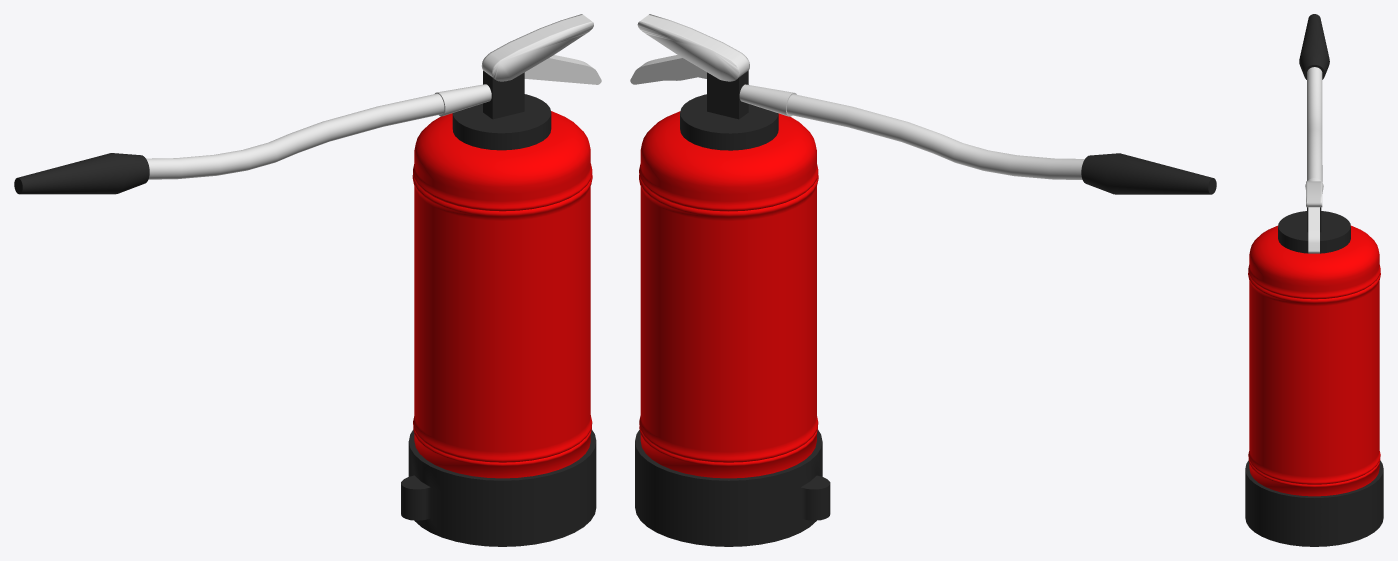
File: Feuerlöscher.fbx
The picture shows the model from 3 angles, left to right: view 1: azimuth 30°, elevation 25°; view 2: azimuth 150°, elevation 25°; view 3: azimuth 270°, elevation 25°; orthographic projection. The views are drawn at different scales.
Visible parts, largest first — view 1: Kapsel, Sweep-NURBS, Zylinder, Scheibe, Deckfläche 1.1, Würfel.1, Deckfläche 1.3, Griff oben, Loft-NURBS; view 2: Kapsel, Sweep-NURBS, Zylinder, Scheibe, Deckfläche 1.1, Würfel.1, Deckfläche 2.3, Griff oben, Loft-NURBS; view 3: Kapsel, Scheibe, Sweep-NURBS, Zylinder, Griff unten, Griff oben.
Boxes of the visible parts, x1=… form: Kapsel: x1=401, y1=111, x2=596, y2=546; Sweep-NURBS: x1=146, y1=93, x2=444, y2=179; Zylinder: x1=14, y1=153, x2=149, y2=194; Scheibe: x1=452, y1=94, x2=551, y2=150; Deckfläche 1.1: x1=481, y1=14, x2=593, y2=81; Würfel.1: x1=483, y1=70, x2=524, y2=119; Deckfläche 1.3: x1=524, y1=58, x2=601, y2=84; Griff oben: x1=483, y1=15, x2=591, y2=76; Loft-NURBS: x1=437, y1=84, x2=491, y2=115; Kapsel: x1=635, y1=111, x2=830, y2=546; Sweep-NURBS: x1=786, y1=94, x2=1084, y2=179; Zylinder: x1=1081, y1=153, x2=1216, y2=194; Scheibe: x1=680, y1=94, x2=778, y2=150; Deckfläche 1.1: x1=637, y1=14, x2=749, y2=81; Würfel.1: x1=707, y1=70, x2=748, y2=119; Deckfläche 2.3: x1=630, y1=58, x2=706, y2=84; Griff oben: x1=640, y1=15, x2=748, y2=76; Loft-NURBS: x1=739, y1=84, x2=793, y2=116; Kapsel: x1=1245, y1=225, x2=1383, y2=546; Scheibe: x1=1278, y1=211, x2=1350, y2=253; Sweep-NURBS: x1=1307, y1=67, x2=1322, y2=181; Zylinder: x1=1299, y1=14, x2=1329, y2=79; Griff unten: x1=1308, y1=207, x2=1319, y2=253; Griff oben: x1=1307, y1=181, x2=1320, y2=207.
Bounding box in the file's own units: 380 × 293 × 106.
